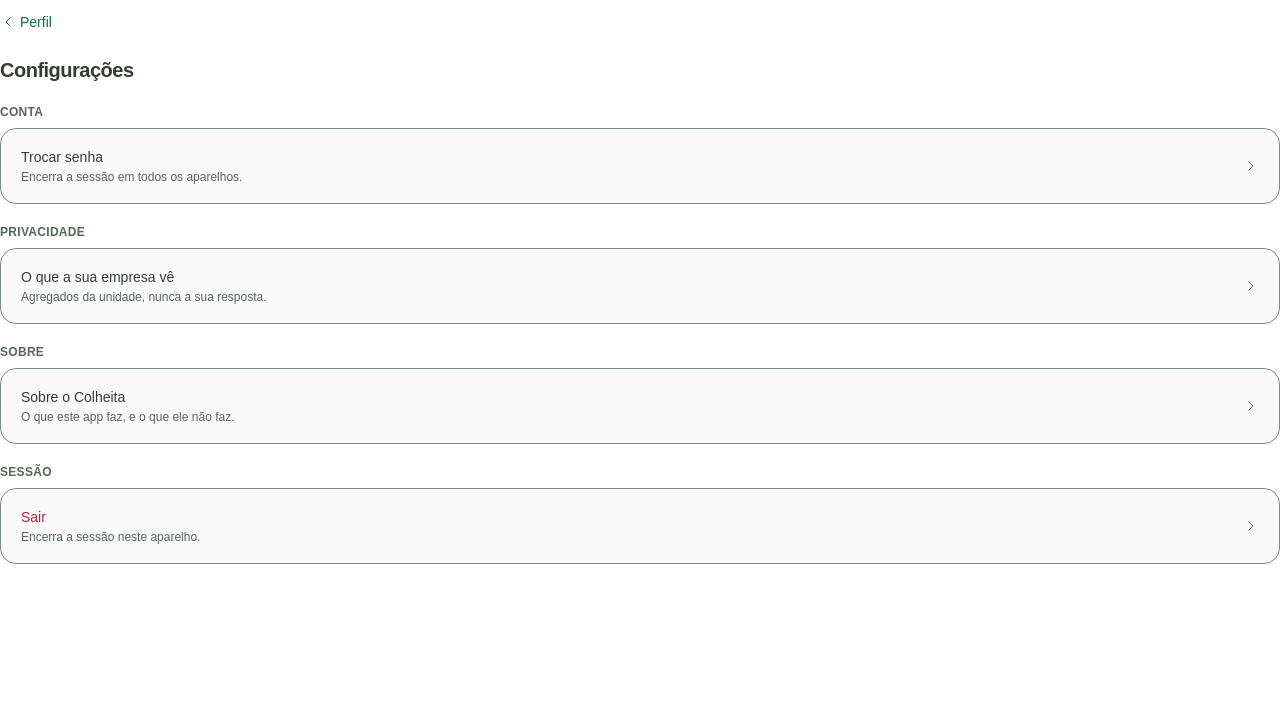
Test: SettingsView › moves focus into the panel and back to the row that opened it
This screenshot has width=1280, height=720.
Click the button "Sobre o Colheita O que este app faz, e o que ele não faz.".
click(73, 397)  # box [9, 377, 1271, 435]
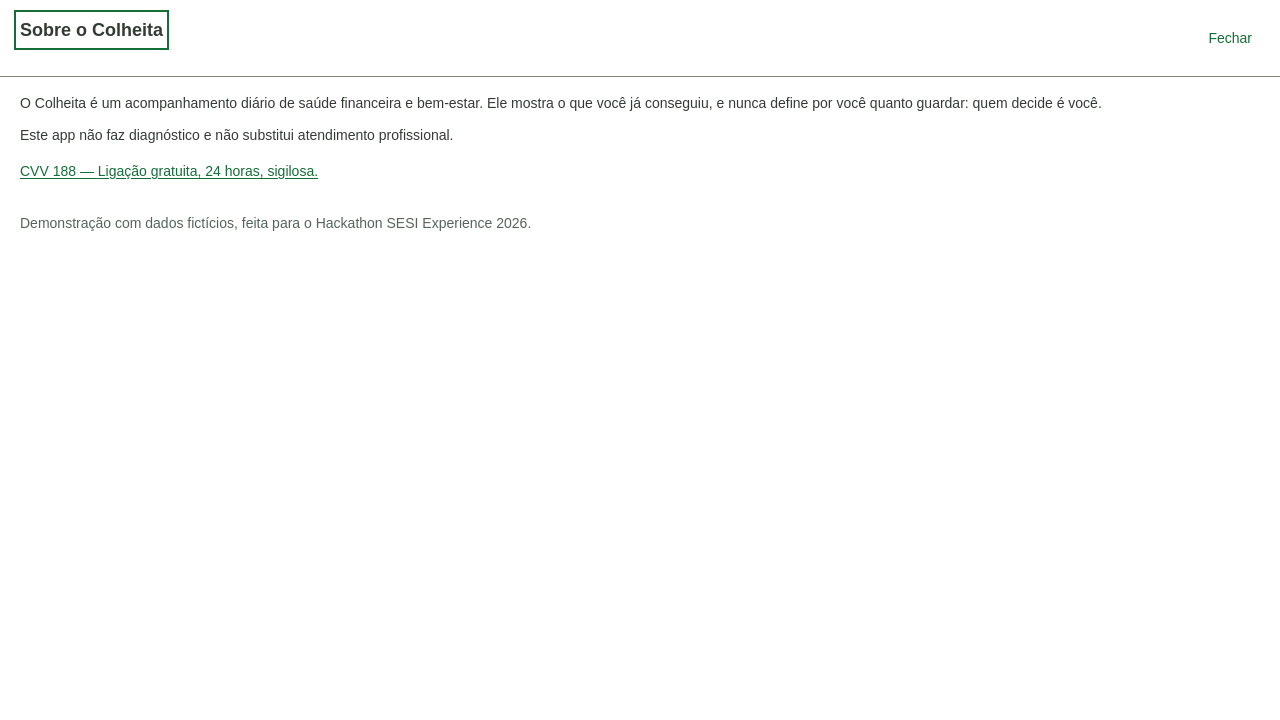
Click the button "Fechar".
click(1230, 38)  # box [1200, 16, 1260, 60]
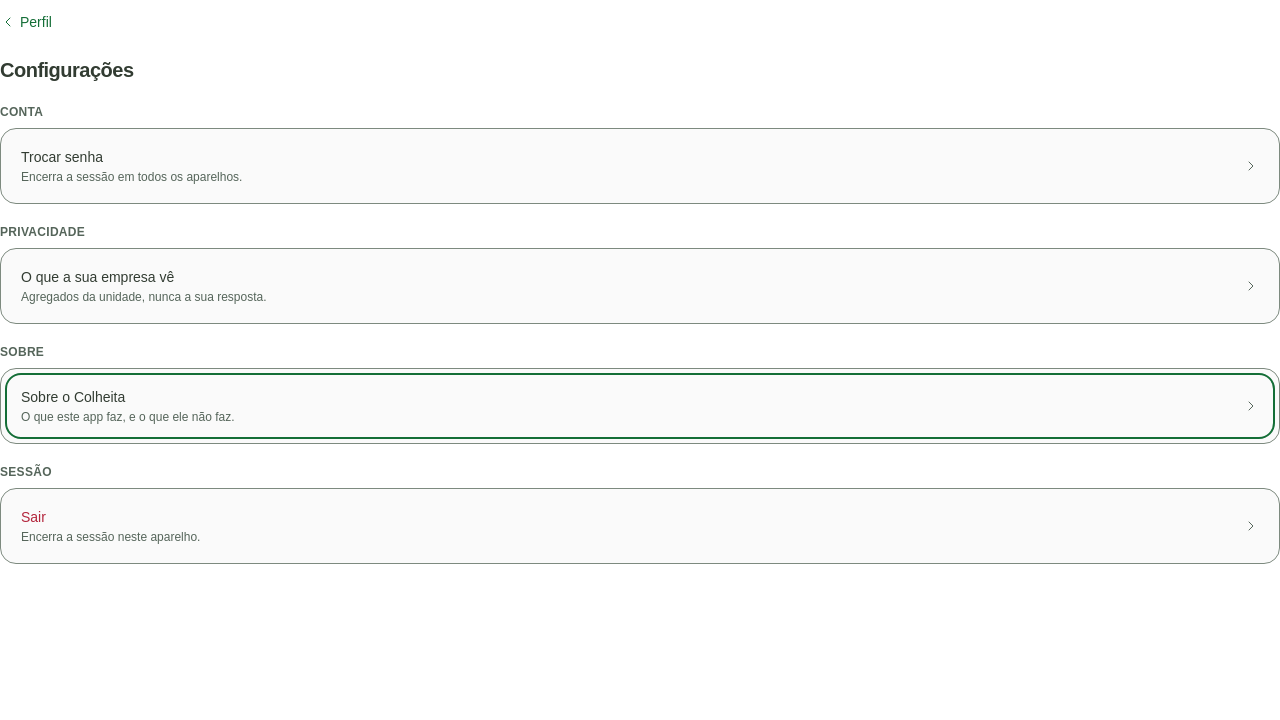
Now the dialog is gone
